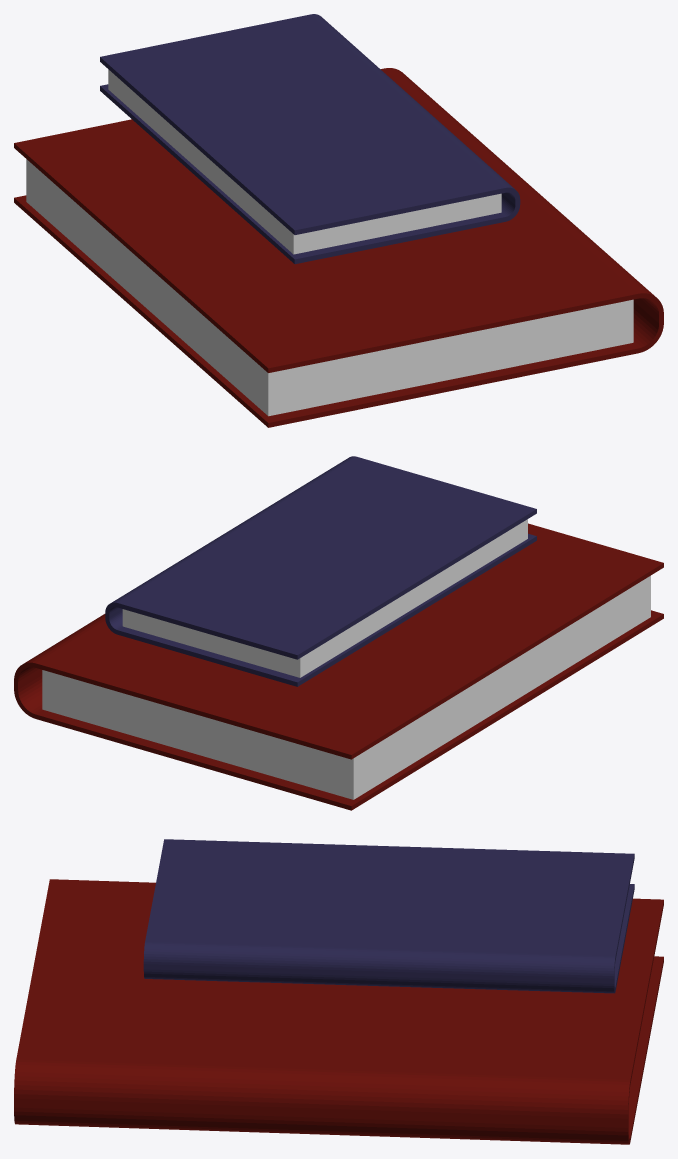
File: Books.fbx
3 renders of one model, top to bottom at view 1: azimuth 30°, elevation 25°; view 2: azimuth 150°, elevation 25°; view 3: azimuth 270°, elevation 25°, orthographic. The views are drawn at different scales.
Visible parts, largest first — view 1: Books.002, Books.001; view 2: Books.002, Books.001; view 3: Books.002, Books.001.
Part boxes in pixels (<box>): Books.002: <box>14,68,663,427</box>; Books.001: <box>100,14,520,264</box>; Books.002: <box>14,523,663,810</box>; Books.001: <box>105,456,536,686</box>; Books.002: <box>14,879,663,1144</box>; Books.001: <box>143,839,634,993</box>.
Size of the model in its own units: 33.72 by 10.66 by 43.47.
